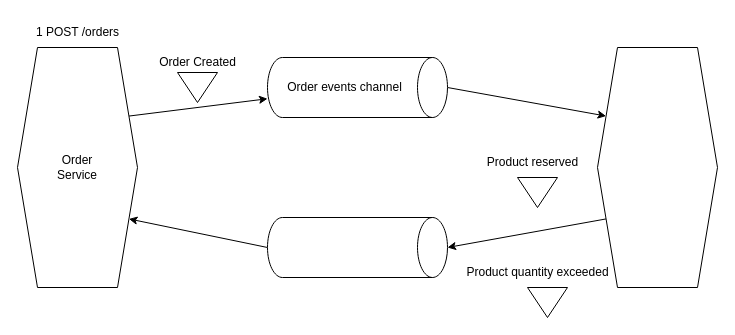
The diagram is 735 pixels wide and 335 high, and some of its shapes have lost their labels. The centre of each missing label's shape, as x and y in pixels:
"Product events channel" belongs at (x=357, y=247).
"Product Service" belongs at (x=657, y=167).
